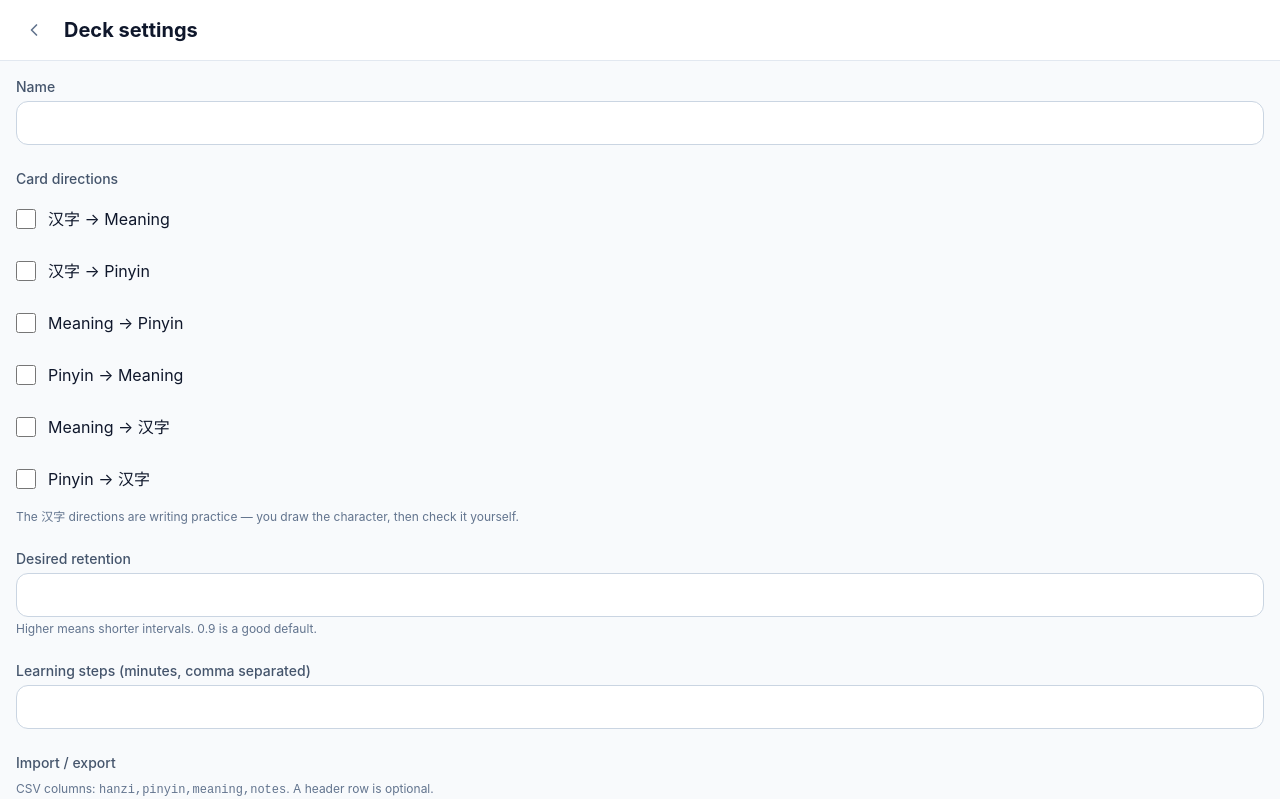
Test: DeckSettingsPage › rejects a blank name, shows an error and restores the last saved value
Clear the field labelled "Name" at (640, 123), box [16, 101, 1264, 145]
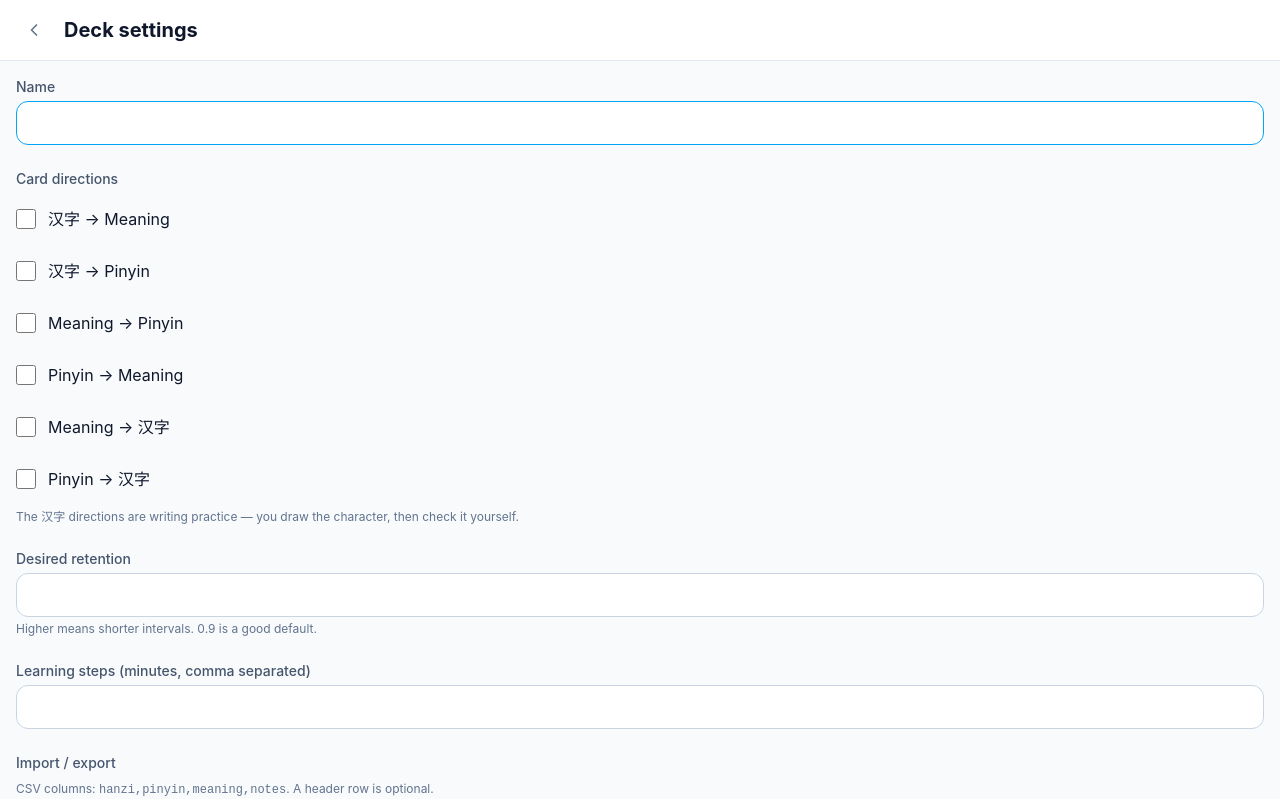
Press Tab
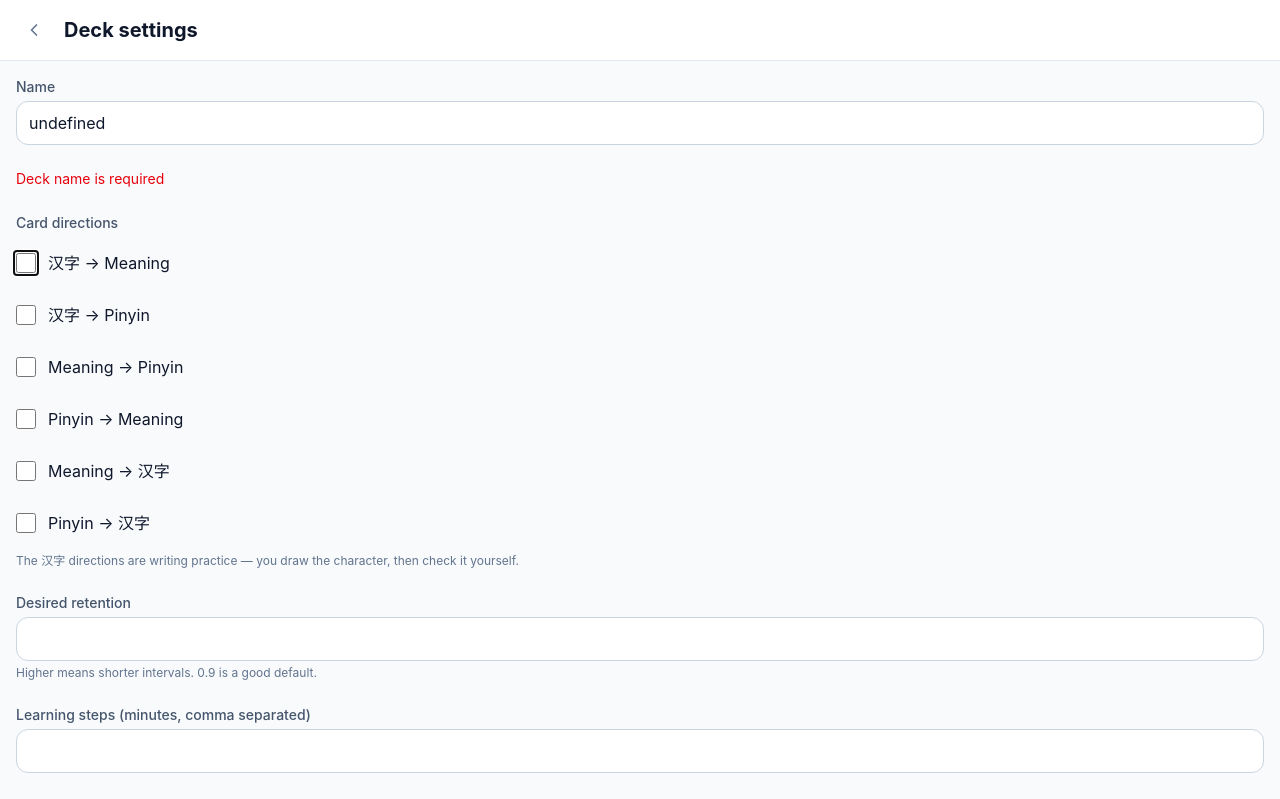
Now the text "Deck name is required" is shown, box [16, 170, 164, 187]
